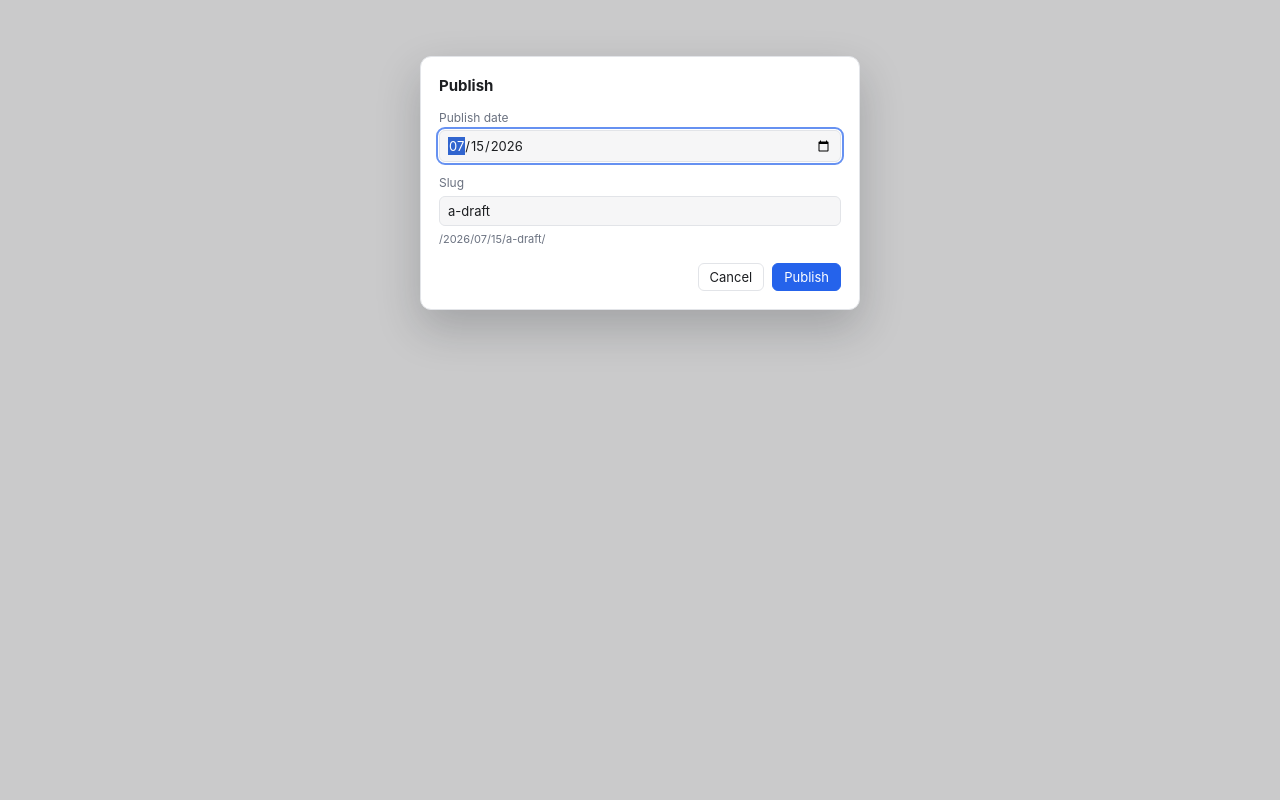
Scenario: PublishDialog — slug validation gates Publish › disables Publish once the slug is cleared to empty
The image size is (1280, 800).
Clear the field labelled "Slug": (640, 210) [439,196,841,226]
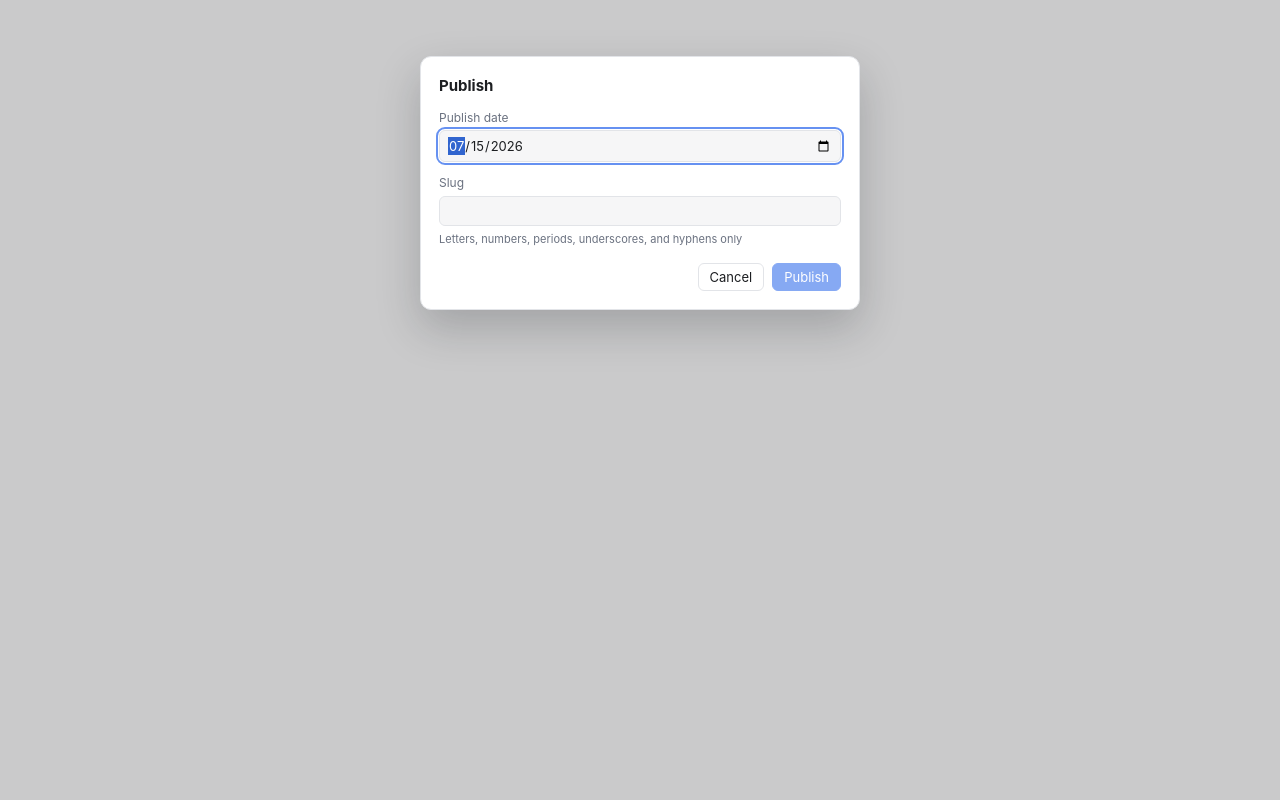
expect the button "Publish" is disabled: met, box [772,264,841,292]
